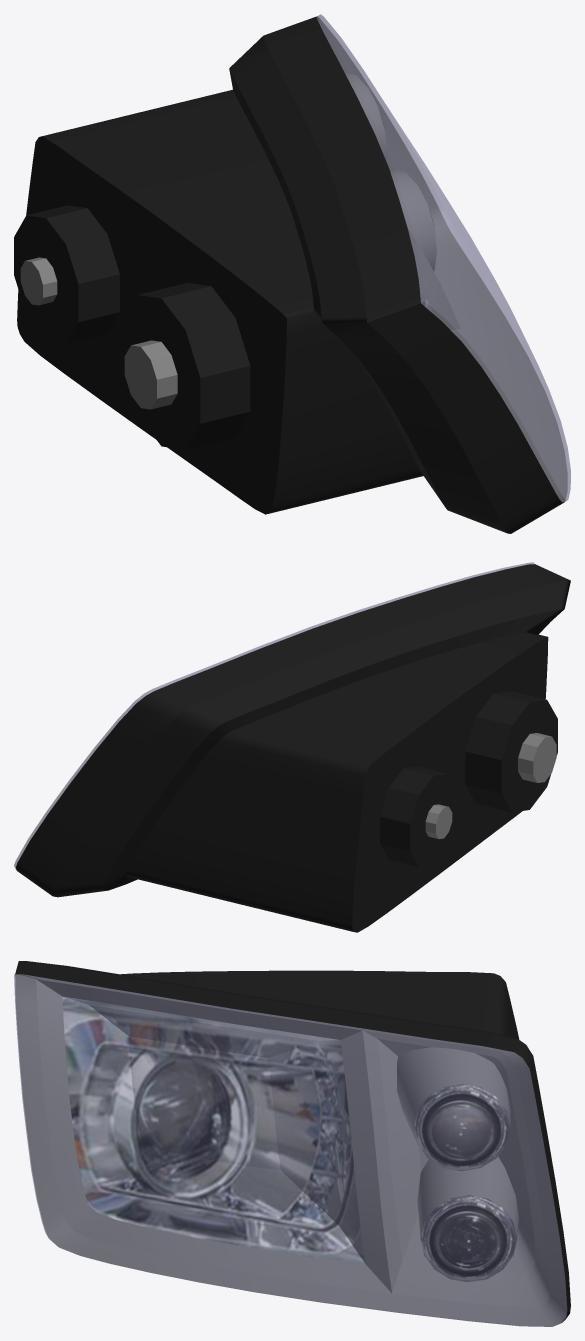
The picture shows the model from 3 angles, top to bottom: view 1: azimuth 30°, elevation 25°; view 2: azimuth 150°, elevation 25°; view 3: azimuth 270°, elevation 25°; orthographic projection. The views are drawn at different scales.
Visible parts, largest first — view 1: X6163_061B_R_X6163_061B_R_5_D, X6163_061B_R_X6163_061B_R_4_DaS, X6163_061B_R_X6163_061B_R_6_DTaSI; view 2: X6163_061B_R_X6163_061B_R_5_D, X6163_061B_R_X6163_061B_R_4_DaS, X6163_061B_R_X6163_061B_R_6_DTaSI; view 3: X6163_061B_R_X6163_061B_R_6_DTaSI, X6163_061B_R_X6163_061B_R_4_DaS, X6163_061B_R_1_N_X6163_061B_R, X6163_061B_R_X6163_061B_R_5_D, X6163_061B_R_X6163_061B_R_2_N, X6163_061B_R_X6163_061B_R_3_N.
Part boxes in pixels (<box>): X6163_061B_R_X6163_061B_R_5_D: <box>14,16,564,533</box>; X6163_061B_R_X6163_061B_R_4_DaS: <box>20,16,567,502</box>; X6163_061B_R_X6163_061B_R_6_DTaSI: <box>316,14,570,501</box>; X6163_061B_R_X6163_061B_R_5_D: <box>15,564,570,932</box>; X6163_061B_R_X6163_061B_R_4_DaS: <box>425,733,556,839</box>; X6163_061B_R_X6163_061B_R_6_DTaSI: <box>14,562,534,869</box>; X6163_061B_R_X6163_061B_R_6_DTaSI: <box>14,974,566,1326</box>; X6163_061B_R_X6163_061B_R_4_DaS: <box>15,974,567,1326</box>; X6163_061B_R_1_N_X6163_061B_R: <box>62,997,365,1264</box>; X6163_061B_R_X6163_061B_R_5_D: <box>15,961,570,1322</box>; X6163_061B_R_X6163_061B_R_2_N: <box>414,1084,510,1171</box>; X6163_061B_R_X6163_061B_R_3_N: <box>421,1195,516,1281</box>.
Bounding box in the file's own units: 33.81 × 18.67 × 39.66.
